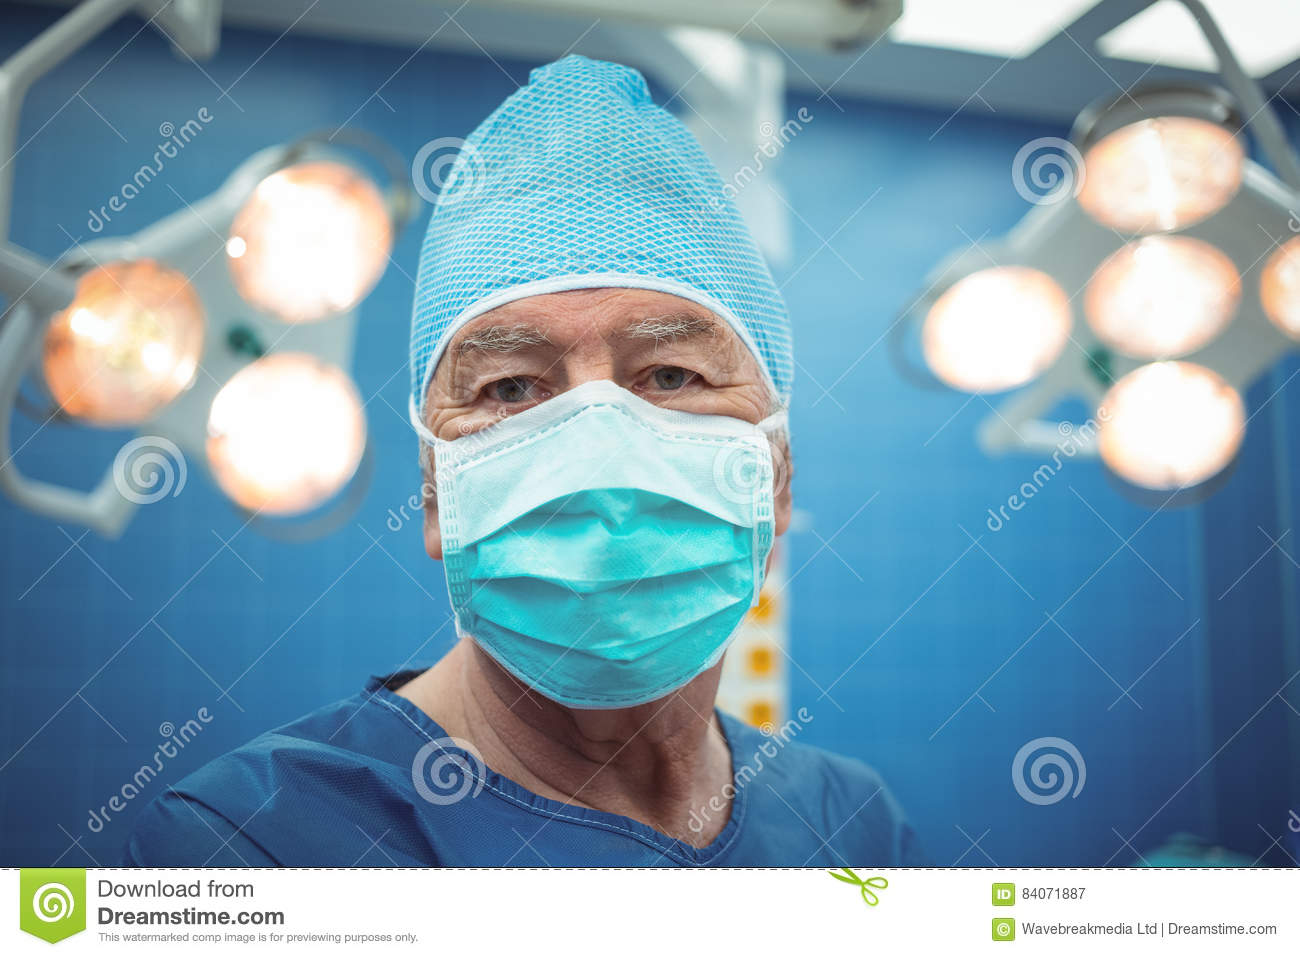mask: (425, 395, 778, 711)
